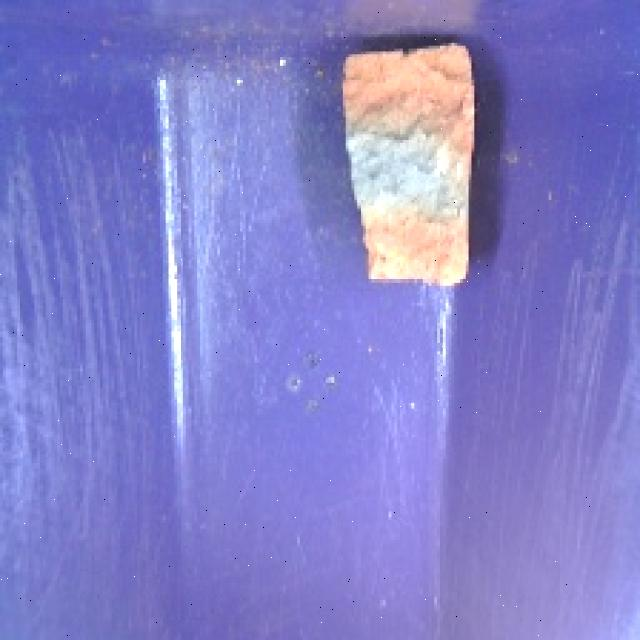brick: (319, 26, 500, 300)
